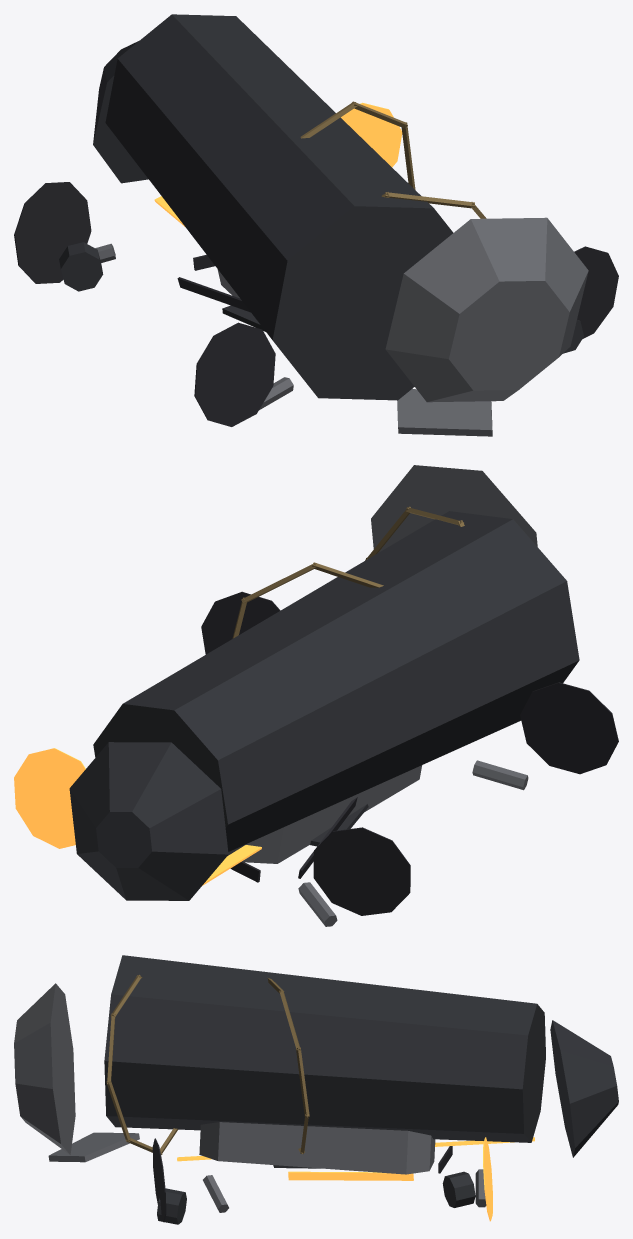
The model's file is Wreck_Aegis_Carrier.fbx.
3 renders of one model, top to bottom at view 1: azimuth 30°, elevation 25°; view 2: azimuth 150°, elevation 25°; view 3: azimuth 270°, elevation 25°, orthographic. The views are drawn at different scales.
Parts seen in each view (by area): view 1: Wreck_Aegis_Carrier; view 2: Wreck_Aegis_Carrier; view 3: Wreck_Aegis_Carrier.
Part boxes in pixels (left/top/right/bottom): Wreck_Aegis_Carrier: left=14, top=14, right=618, bottom=436; Wreck_Aegis_Carrier: left=14, top=465, right=618, bottom=926; Wreck_Aegis_Carrier: left=14, top=955, right=618, bottom=1224.
Size of the model in its own units: 1.83 by 0.9672 by 2.87.
